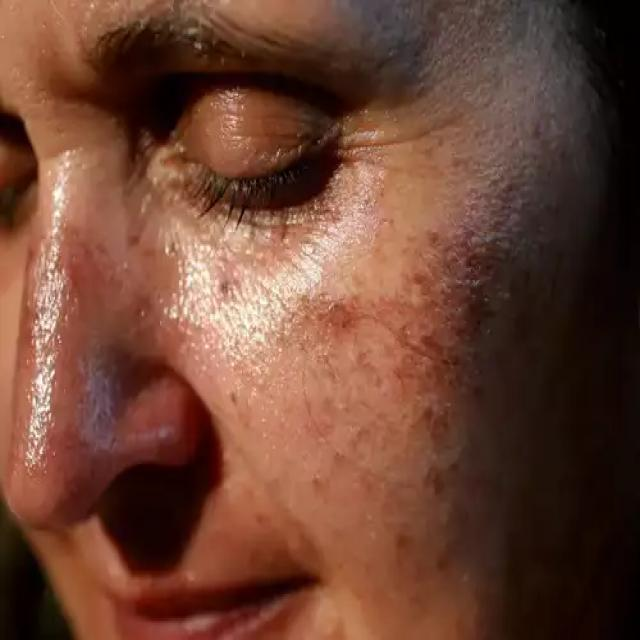pigmentation: (312, 254, 509, 463)
